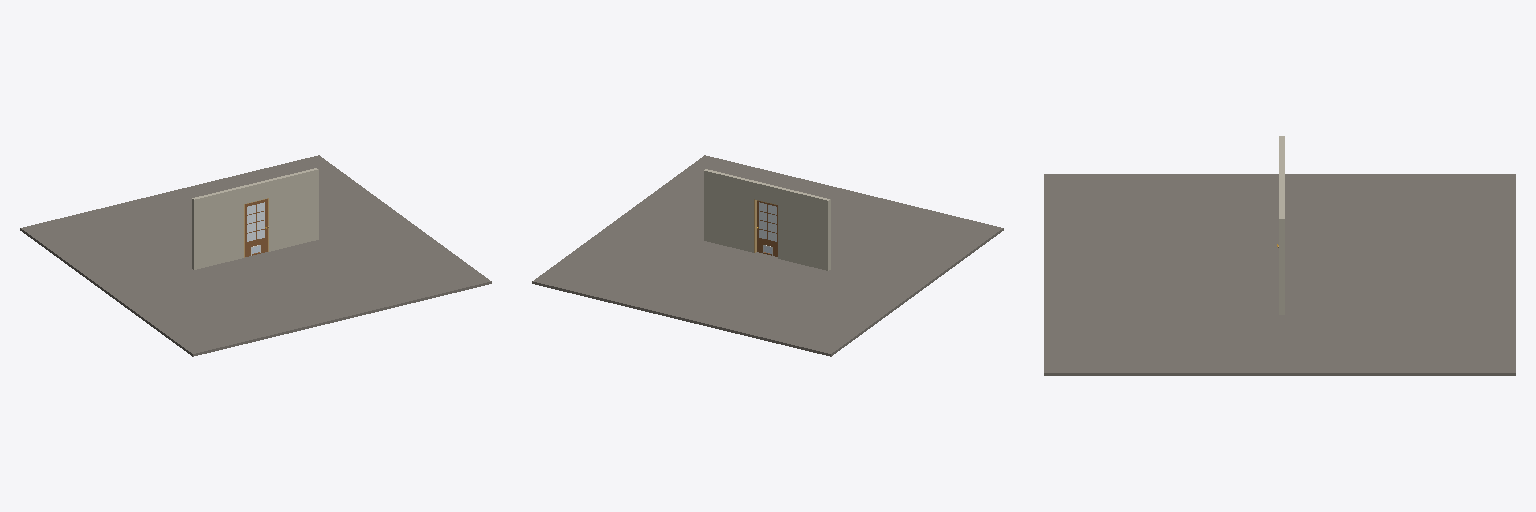
URDF robot description (db0823_swing_single_simple):
<?xml version="1.0" ?>
<robot xmlns:doorbench="https://github.com/adamraudonis/DoorBench/schema/urdf-ext" name="db0823_swing_single_simple">
  <link name="world_env">
    <visual name="floor_vis">
      <origin xyz="0 0 -0.05" rpy="0 0 0"/>
      <geometry>
        <box size="12 12 0.1"/>
      </geometry>
      <material name="mat_floor"/>
    </visual>
    <collision name="floor_col">
      <origin xyz="0 0 -0.05" rpy="0 0 0"/>
      <geometry>
        <box size="12 12 0.1"/>
      </geometry>
    </collision>
    <visual name="wall_left_vis">
      <origin xyz="-1.48975 0.048 1.35" rpy="0 0 0"/>
      <geometry>
        <box size="2.0205 0.145 2.7"/>
      </geometry>
      <material name="mat_wall"/>
    </visual>
    <collision name="wall_left_col">
      <origin xyz="-1.48975 0.048 1.35" rpy="0 0 0"/>
      <geometry>
        <box size="2.0205 0.145 2.7"/>
      </geometry>
    </collision>
    <visual name="wall_right_vis">
      <origin xyz="1.50475 0.048 1.35" rpy="0 0 0"/>
      <geometry>
        <box size="1.9905 0.145 2.7"/>
      </geometry>
      <material name="mat_wall"/>
    </visual>
    <collision name="wall_right_col">
      <origin xyz="1.50475 0.048 1.35" rpy="0 0 0"/>
      <geometry>
        <box size="1.9905 0.145 2.7"/>
      </geometry>
    </collision>
    <visual name="wall_header_vis">
      <origin xyz="0.015 0.048 2.397" rpy="0 0 0"/>
      <geometry>
        <box size="0.989 0.145 0.606"/>
      </geometry>
      <material name="mat_wall"/>
    </visual>
    <collision name="wall_header_col">
      <origin xyz="0.015 0.048 2.397" rpy="0 0 0"/>
      <geometry>
        <box size="0.989 0.145 0.606"/>
      </geometry>
    </collision>
    <visual name="hinge_0_jamb_vis">
      <origin xyz="-0.4575 -0.0245 0.259" rpy="0 0 0"/>
      <geometry>
        <mesh filename="../../hardware/hinge_jamb_7fd4ca52b2.obj"/>
      </geometry>
      <material name="mat_hinge"/>
    </visual>
    <visual name="hinge_1_jamb_vis">
      <origin xyz="-0.4575 -0.0245 1.025" rpy="0 0 0"/>
      <geometry>
        <mesh filename="../../hardware/hinge_jamb_7fd4ca52b2.obj"/>
      </geometry>
      <material name="mat_hinge"/>
    </visual>
    <visual name="hinge_2_jamb_vis">
      <origin xyz="-0.4575 -0.0245 1.861" rpy="0 0 0"/>
      <geometry>
        <mesh filename="../../hardware/hinge_jamb_7fd4ca52b2.obj"/>
      </geometry>
      <material name="mat_hinge"/>
    </visual>
    <visual name="jamb_hinge_vis">
      <origin xyz="-0.47 0.048 1.0225" rpy="0 0 0"/>
      <geometry>
        <box size="0.019 0.145 2.045"/>
      </geometry>
      <material name="mat_frame"/>
    </visual>
    <collision name="jamb_hinge_col">
      <origin xyz="-0.47 0.048 1.0225" rpy="0 0 0"/>
      <geometry>
        <box size="0.019 0.145 2.045"/>
      </geometry>
    </collision>
    <visual name="strike_965_wall_n_vis">
      <origin xyz="0.485 0.064175 0.965" rpy="0 0 0"/>
      <geometry>
        <box size="0.049 0.11265 0.0334"/>
      </geometry>
      <material name="mat_frame"/>
    </visual>
    <collision name="strike_965_wall_n_col">
      <origin xyz="0.485 0.064175 0.965" rpy="0 0 0"/>
      <geometry>
        <box size="0.049 0.11265 0.0334"/>
      </geometry>
    </collision>
    <visual name="strike_965_wall_p_vis">
      <origin xyz="0.485 -0.01585 0.965" rpy="0 0 0"/>
      <geometry>
        <box size="0.049 0.016 0.0334"/>
      </geometry>
      <material name="mat_frame"/>
    </visual>
    <collision name="strike_965_wall_p_col">
      <origin xyz="0.485 -0.01585 0.965" rpy="0 0 0"/>
      <geometry>
        <box size="0.049 0.016 0.0334"/>
      </geometry>
    </collision>
    <visual name="strike_965_ramp_vis">
      <origin xyz="0.489636 -0.028673 0.965" rpy="0 0 0.428384"/>
      <geometry>
        <box size="0.049 0.03298 0.0334"/>
      </geometry>
      <material name="mat_frame"/>
    </visual>
    <collision name="strike_965_ramp_col">
      <origin xyz="0.489636 -0.028673 0.965" rpy="0 0 0.428384"/>
      <geometry>
        <box size="0.049 0.03298 0.0334"/>
      </geometry>
    </collision>
    <visual name="strike_965_back_vis">
      <origin xyz="0.49335 0 0.965" rpy="0 0 0"/>
      <geometry>
        <box size="0.0323 0.0157 0.0334"/>
      </geometry>
      <material name="mat_frame"/>
    </visual>
    <collision name="strike_965_back_col">
      <origin xyz="0.49335 0 0.965" rpy="0 0 0"/>
      <geometry>
        <box size="0.0323 0.0157 0.0334"/>
      </geometry>
    </collision>
    <visual name="jamb_strike_0_vis">
      <origin xyz="0.485 0.048 0.47415" rpy="0 0 0"/>
      <geometry>
        <box size="0.049 0.145 0.9483"/>
      </geometry>
      <material name="mat_frame"/>
    </visual>
    <collision name="jamb_strike_0_col">
      <origin xyz="0.485 0.048 0.47415" rpy="0 0 0"/>
      <geometry>
        <box size="0.049 0.145 0.9483"/>
      </geometry>
    </collision>
    <visual name="jamb_strike_1_vis">
      <origin xyz="0.485 0.048 1.51335" rpy="0 0 0"/>
      <geometry>
        <box size="0.049 0.145 1.0633"/>
      </geometry>
      <material name="mat_frame"/>
    </visual>
    <collision name="jamb_strike_1_col">
      <origin xyz="0.485 0.048 1.51335" rpy="0 0 0"/>
      <geometry>
        <box size="0.049 0.145 1.0633"/>
      </geometry>
    </collision>
    <visual name="jamb_head_vis">
      <origin xyz="0.015 0.048 2.0545" rpy="0 0 0"/>
      <geometry>
        <box size="0.989 0.145 0.019"/>
      </geometry>
      <material name="mat_frame"/>
    </visual>
    <collision name="jamb_head_col">
      <origin xyz="0.015 0.048 2.0545" rpy="0 0 0"/>
      <geometry>
        <box size="0.989 0.145 0.019"/>
      </geometry>
    </collision>
    <visual name="head_stud_vis">
      <origin xyz="0.015 0.048 2.079" rpy="0 0 0"/>
      <geometry>
        <box size="0.989 0.145 0.03"/>
      </geometry>
      <material name="mat_wall"/>
    </visual>
    <collision name="head_stud_col">
      <origin xyz="0.015 0.048 2.079" rpy="0 0 0"/>
      <geometry>
        <box size="0.989 0.145 0.03"/>
      </geometry>
    </collision>
    <visual name="stop_hinge_vis">
      <origin xyz="-0.455 0.034 1.0225" rpy="0 0 0"/>
      <geometry>
        <box size="0.011 0.032 2.045"/>
      </geometry>
      <material name="mat_frame"/>
    </visual>
    <collision name="stop_hinge_col">
      <origin xyz="-0.455 0.034 1.0225" rpy="0 0 0"/>
      <geometry>
        <box size="0.011 0.032 2.045"/>
      </geometry>
    </collision>
    <visual name="stop_strike_vis">
      <origin xyz="0.455 0.034 1.0225" rpy="0 0 0"/>
      <geometry>
        <box size="0.011 0.032 2.045"/>
      </geometry>
      <material name="mat_frame"/>
    </visual>
    <collision name="stop_strike_col">
      <origin xyz="0.455 0.034 1.0225" rpy="0 0 0"/>
      <geometry>
        <box size="0.011 0.032 2.045"/>
      </geometry>
    </collision>
    <visual name="stop_head_vis">
      <origin xyz="0 0.034 2.0395" rpy="0 0 0"/>
      <geometry>
        <box size="0.921 0.032 0.011"/>
      </geometry>
      <material name="mat_frame"/>
    </visual>
    <collision name="stop_head_col">
      <origin xyz="0 0.034 2.0395" rpy="0 0 0"/>
      <geometry>
        <box size="0.921 0.032 0.011"/>
      </geometry>
    </collision>
  </link>
  <link name="leaf">
    <inertial>
      <origin xyz="0.448667 0.024224 0.972891" rpy="0 0 0"/>
      <mass value="37.892648"/>
      <inertia ixx="13.614657575" ixy="-0.004694653" ixz="0.02471157" iyy="16.254660808" iyz="0.000789242" izz="2.648810167"/>
    </inertial>
    <visual name="leaf_slab_below_vis">
      <origin xyz="0.457 0.0245 0.0335" rpy="0 0 0"/>
      <geometry>
        <box size="0.914 0.035 0.049"/>
      </geometry>
      <material name="mat_leaf"/>
    </visual>
    <collision name="leaf_slab_below_col">
      <origin xyz="0.457 0.0245 0.0335" rpy="0 0 0"/>
      <geometry>
        <box size="0.914 0.035 0.049"/>
      </geometry>
    </collision>
    <visual name="leaf_slab_above_vis">
      <origin xyz="0.457 0.0245 1.1755" rpy="0 0 0"/>
      <geometry>
        <box size="0.914 0.035 1.731"/>
      </geometry>
      <material name="mat_leaf"/>
    </visual>
    <collision name="leaf_slab_above_col">
      <origin xyz="0.457 0.0245 1.1755" rpy="0 0 0"/>
      <geometry>
        <box size="0.914 0.035 1.731"/>
      </geometry>
    </collision>
    <visual name="leaf_slab_left_vis">
      <origin xyz="0.148 0.0245 0.184" rpy="0 0 0"/>
      <geometry>
        <box size="0.296 0.035 0.252"/>
      </geometry>
      <material name="mat_leaf"/>
    </visual>
    <collision name="leaf_slab_left_col">
      <origin xyz="0.148 0.0245 0.184" rpy="0 0 0"/>
      <geometry>
        <box size="0.296 0.035 0.252"/>
      </geometry>
    </collision>
    <visual name="leaf_slab_right_vis">
      <origin xyz="0.766 0.0245 0.184" rpy="0 0 0"/>
      <geometry>
        <box size="0.296 0.035 0.252"/>
      </geometry>
      <material name="mat_leaf"/>
    </visual>
    <collision name="leaf_slab_right_col">
      <origin xyz="0.766 0.0245 0.184" rpy="0 0 0"/>
      <geometry>
        <box size="0.296 0.035 0.252"/>
      </geometry>
    </collision>
    <visual name="leaf_glass_2_vis">
      <origin xyz="0.27127 0.0245 0.738584" rpy="0 0 0"/>
      <geometry>
        <box size="0.34146 0.0366 0.317376"/>
      </geometry>
      <material name="mat_glass"/>
    </visual>
    <visual name="leaf_glass_3_vis">
      <origin xyz="0.64273 0.0245 0.738584" rpy="0 0 0"/>
      <geometry>
        <box size="0.34146 0.0366 0.317376"/>
      </geometry>
      <material name="mat_glass"/>
    </visual>
    <visual name="leaf_glass_4_vis">
      <origin xyz="0.27127 0.0245 1.08596" rpy="0 0 0"/>
      <geometry>
        <box size="0.34146 0.0366 0.317376"/>
      </geometry>
      <material name="mat_glass"/>
    </visual>
    <visual name="leaf_glass_5_vis">
      <origin xyz="0.64273 0.0245 1.08596" rpy="0 0 0"/>
      <geometry>
        <box size="0.34146 0.0366 0.317376"/>
      </geometry>
      <material name="mat_glass"/>
    </visual>
    <visual name="leaf_glass_6_vis">
      <origin xyz="0.27127 0.0245 1.433336" rpy="0 0 0"/>
      <geometry>
        <box size="0.34146 0.0366 0.317376"/>
      </geometry>
      <material name="mat_glass"/>
    </visual>
    <visual name="leaf_glass_7_vis">
      <origin xyz="0.64273 0.0245 1.433336" rpy="0 0 0"/>
      <geometry>
        <box size="0.34146 0.0366 0.317376"/>
      </geometry>
      <material name="mat_glass"/>
    </visual>
    <visual name="leaf_glass_8_vis">
      <origin xyz="0.27127 0.0245 1.780712" rpy="0 0 0"/>
      <geometry>
        <box size="0.34146 0.0366 0.317376"/>
      </geometry>
      <material name="mat_glass"/>
    </visual>
    <visual name="leaf_glass_9_vis">
      <origin xyz="0.64273 0.0245 1.780712" rpy="0 0 0"/>
      <geometry>
        <box size="0.34146 0.0366 0.317376"/>
      </geometry>
      <material name="mat_glass"/>
    </visual>
    <visual name="hinge_0_vis">
      <origin xyz="0 0 0.259" rpy="0 0 0"/>
      <geometry>
        <mesh filename="../../hardware/hinge_96510cf394.obj"/>
      </geometry>
      <material name="mat_hinge"/>
    </visual>
    <visual name="hinge_1_vis">
      <origin xyz="0 0 1.025" rpy="0 0 0"/>
      <geometry>
        <mesh filename="../../hardware/hinge_96510cf394.obj"/>
      </geometry>
      <material name="mat_hinge"/>
    </visual>
    <visual name="hinge_2_vis">
      <origin xyz="0 0 1.861" rpy="0 0 0"/>
      <geometry>
        <mesh filename="../../hardware/hinge_96510cf394.obj"/>
      </geometry>
      <material name="mat_hinge"/>
    </visual>
    <visual name="leaf_latch_bolt_faceplate_vis">
      <origin xyz="0.9134 0.0245 0.965" rpy="0 0 0"/>
      <geometry>
        <box size="0.0012 0.0247 0.0534"/>
      </geometry>
      <material name="mat_bolt"/>
    </visual>
    <visual name="pet_frame_top_vis">
      <origin xyz="0.457 0.0245 0.329" rpy="0 0 0"/>
      <geometry>
        <box size="0.4 0.047 0.04"/>
      </geometry>
      <material name="mat_petframe"/>
    </visual>
    <visual name="pet_frame_l_vis">
      <origin xyz="0.277 0.0245 0.184" rpy="0 0 0"/>
      <geometry>
        <box size="0.04 0.047 0.33"/>
      </geometry>
      <material name="mat_petframe"/>
    </visual>
    <visual name="pet_frame_r_vis">
      <origin xyz="0.637 0.0245 0.184" rpy="0 0 0"/>
      <geometry>
        <box size="0.04 0.047 0.33"/>
      </geometry>
      <material name="mat_petframe"/>
    </visual>
  </link>
  <link name="leaf_handle">
    <inertial>
      <origin xyz="0 0 0" rpy="0 0 0"/>
      <mass value="1.098683"/>
      <inertia ixx="0.003696071" ixy="0" ixz="0" iyy="0.000311555" iyz="0" izz="0.003696071"/>
    </inertial>
    <visual name="leaf_handle_knob_n_vis">
      <origin xyz="0 -0.0175 0" rpy="1.570796 0 0"/>
      <geometry>
        <mesh filename="../../hardware/knob_d1888f6f03.obj"/>
      </geometry>
      <material name="mat_op_brass"/>
    </visual>
    <visual name="leaf_handle_knob_col_n_vis">
      <origin xyz="0 -0.064 0" rpy="0 0 0"/>
      <geometry>
        <sphere radius="0.0243"/>
      </geometry>
      <material name="mat_op_brass"/>
    </visual>
    <collision name="leaf_handle_knob_col_n_col">
      <origin xyz="0 -0.064 0" rpy="0 0 0"/>
      <geometry>
        <sphere radius="0.0243"/>
      </geometry>
    </collision>
    <collision name="leaf_handle_knob_neck_n_col">
      <origin xyz="0 -0.0295 0" rpy="-1.570796 0 0"/>
      <geometry>
        <cylinder radius="0.011" length="0.024"/>
      </geometry>
    </collision>
    <visual name="leaf_handle_knob_p_vis">
      <origin xyz="0 0.0175 0" rpy="-1.570796 0 0"/>
      <geometry>
        <mesh filename="../../hardware/knob_d1888f6f03.obj"/>
      </geometry>
      <material name="mat_op_brass"/>
    </visual>
    <visual name="leaf_handle_knob_col_p_vis">
      <origin xyz="0 0.064 0" rpy="0 0 0"/>
      <geometry>
        <sphere radius="0.0243"/>
      </geometry>
      <material name="mat_op_brass"/>
    </visual>
    <collision name="leaf_handle_knob_col_p_col">
      <origin xyz="0 0.064 0" rpy="0 0 0"/>
      <geometry>
        <sphere radius="0.0243"/>
      </geometry>
    </collision>
    <collision name="leaf_handle_knob_neck_p_col">
      <origin xyz="0 0.0295 0" rpy="-1.570796 0 0"/>
      <geometry>
        <cylinder radius="0.011" length="0.024"/>
      </geometry>
    </collision>
  </link>
  <link name="leaf_latch_bolt">
    <inertial>
      <origin xyz="-0.00865 0 0" rpy="0 0 0"/>
      <mass value="0.041419"/>
      <inertia ixx="0.000000798" ixy="0" ixz="0" iyy="0.000005598" iyz="0" izz="0.000005598"/>
    </inertial>
    <visual name="leaf_latch_bolt_capsule_vis">
      <origin xyz="-0.00865 0 0" rpy="0 1.570796 0"/>
      <geometry>
        <cylinder radius="0.00635" length="0.03"/>
      </geometry>
      <material name="mat_bolt"/>
    </visual>
    <collision name="leaf_latch_bolt_capsule_col">
      <origin xyz="-0.00865 0 0" rpy="0 1.570796 0"/>
      <geometry>
        <cylinder radius="0.00635" length="0.03"/>
      </geometry>
    </collision>
  </link>
  <link name="pet_flap">
    <inertial>
      <origin xyz="0 0 -0.125" rpy="0 0 0"/>
      <mass value="0.119283"/>
      <inertia ixx="0.0005823" ixy="0" ixz="0" iyy="0.001549766" iyz="0" izz="0.000967784"/>
    </inertial>
    <visual name="pet_flap_geom_vis">
      <origin xyz="0 0 -0.125" rpy="0 0 0"/>
      <geometry>
        <box size="0.312 0.004 0.242"/>
      </geometry>
      <material name="mat_petflap"/>
    </visual>
    <collision name="pet_flap_geom_col">
      <origin xyz="0 0 -0.125" rpy="0 0 0"/>
      <geometry>
        <box size="0.312 0.004 0.242"/>
      </geometry>
    </collision>
  </link>
  <joint name="leaf_hinge" type="revolute">
    <origin xyz="-0.4575 -0.0245 0" rpy="0 0 0"/>
    <parent link="world_env"/>
    <child link="leaf"/>
    <axis xyz="0 0 -1"/>
    <limit lower="0" upper="2.268928" effort="2000" velocity="10"/>
    <dynamics damping="0.30611" friction="0.268355"/>
    <doorbench:closer damping_closing="0" damping_opening="0" backcheck_angle="0" backcheck_damping="0"/>
  </joint>
  <joint name="leaf_handle_hinge" type="revolute">
    <origin xyz="0.854 0.0245 0.965" rpy="0 0 0"/>
    <parent link="leaf"/>
    <child link="leaf_handle"/>
    <axis xyz="0 -1 0"/>
    <limit lower="0" upper="0.87" effort="2000" velocity="10"/>
    <dynamics damping="0.143613" friction="0.038"/>
    <doorbench:spring stiffness="0.5" springref="-0.5" note="tau = -stiffness*(q - springref); not native URDF"/>
  </joint>
  <joint name="leaf_latch_bolt_slide" type="prismatic">
    <origin xyz="0.914 0.0245 0.965" rpy="0 0 0"/>
    <parent link="leaf"/>
    <child link="leaf_latch_bolt"/>
    <axis xyz="-1 0 0"/>
    <limit lower="0" upper="0.0127" effort="5000" velocity="10"/>
    <dynamics damping="2" friction="0.3"/>
    <doorbench:spring stiffness="300" springref="-0.008333" note="tau = -stiffness*(q - springref); not native URDF"/>
    <mimic joint="leaf_handle_hinge" multiplier="0.015679" offset="0"/>
    <doorbench:coupling one_sided="true" note="MJCF uses a one-sided tendon (bolt may retract further, e.g. riding over the strike lip); mimic is bilateral"/>
  </joint>
  <joint name="pet_flap_hinge" type="revolute">
    <origin xyz="0.457 0.0245 0.309" rpy="0 0 0"/>
    <parent link="leaf"/>
    <child link="pet_flap"/>
    <axis xyz="1 0 0"/>
    <limit lower="-1.45" upper="1.45" effort="2000" velocity="10"/>
    <dynamics damping="0.02" friction="0.02"/>
  </joint>
  <material name="mat_bolt">
    <color rgba="0.85 0.66 0.3 1"/>
  </material>
  <material name="mat_floor">
    <color rgba="0.55 0.53 0.5 1"/>
  </material>
  <material name="mat_frame">
    <color rgba="0.82 0.7 0.5 1"/>
  </material>
  <material name="mat_glass">
    <color rgba="0.9 0.93 0.95 0.6"/>
  </material>
  <material name="mat_hinge">
    <color rgba="0.65 0.66 0.68 1"/>
  </material>
  <material name="mat_leaf">
    <color rgba="0.62 0.45 0.3 1"/>
  </material>
  <material name="mat_op_brass">
    <color rgba="0.85 0.66 0.3 1"/>
  </material>
  <material name="mat_petflap">
    <color rgba="0.85 0.9 0.95 0.45"/>
  </material>
  <material name="mat_petframe">
    <color rgba="0.92 0.92 0.9 1"/>
  </material>
  <material name="mat_wall">
    <color rgba="0.78 0.76 0.7 1"/>
  </material>
</robot>

--- What the picture shows (computed from the rendered views, not written in the file) ---
Views: 3 orthographic renders of the robot side by side, from view 1: azimuth 30°, elevation 25°; view 2: azimuth 150°, elevation 25°; view 3: azimuth 270°, elevation 25°.
Robot: db0823_swing_single_simple — 5 links, 4 joints (3 revolute, 1 prismatic); root link world_env; default pose: every joint at zero.
Links seen in each view (by area): view 1: world_env, leaf; view 2: world_env, leaf; view 3: world_env.
Boxes of the visible links, left/top/right/bottom form: world_env: left=20, top=155, right=491, bottom=356; leaf: left=245, top=199, right=267, bottom=256; world_env: left=532, top=155, right=1003, bottom=356; leaf: left=757, top=201, right=777, bottom=256; world_env: left=1044, top=136, right=1515, bottom=375.
Size in the robot's own frame: 12 by 12 by 2.8 metres.
Meshes: 3 distinct files referenced, 8 mesh visuals loaded (3 OBJ).
